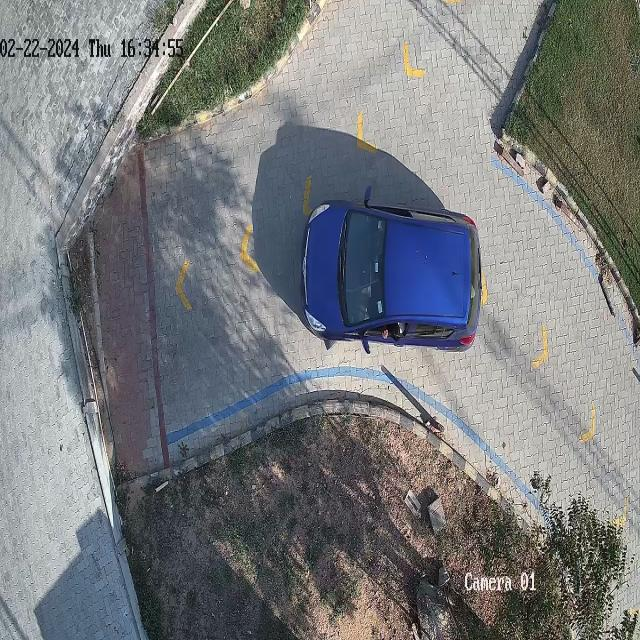car: (301, 189, 481, 349)
